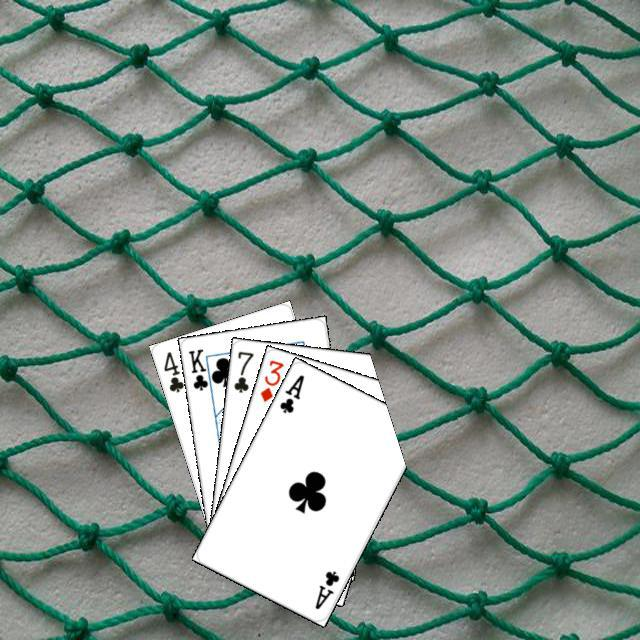3d: (255, 355, 286, 404)
4c: (159, 347, 185, 394)
7c: (229, 346, 255, 394)
Ac: (275, 369, 306, 415), (310, 566, 341, 611)
Kc: (183, 344, 214, 395)
